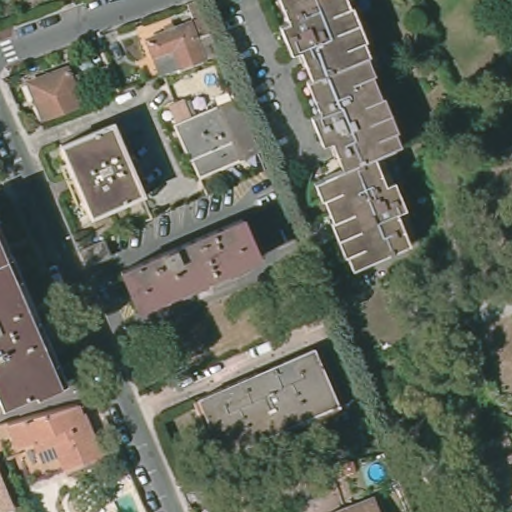pool: (366, 460, 392, 484), (201, 72, 220, 94)
